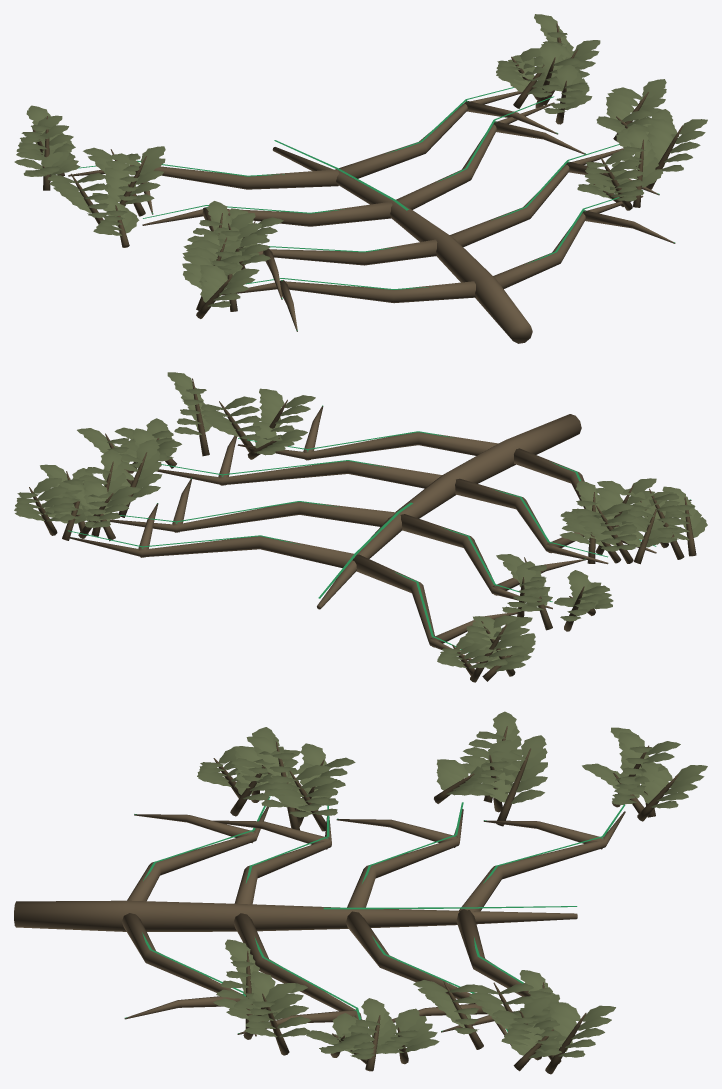
The model's file is green-steppe-colony.glb.
The picture shows the model from 3 angles, top to bottom: view 1: azimuth 30°, elevation 25°; view 2: azimuth 150°, elevation 25°; view 3: azimuth 270°, elevation 25°; orthographic projection. The views are drawn at different scales.
Visible parts, largest first — view 1: LAND04 green-steppe-colony; view 2: LAND04 green-steppe-colony; view 3: LAND04 green-steppe-colony.
Part boxes in pixels (bbox=[...]): LAND04 green-steppe-colony: bbox=[14, 14, 707, 343]; LAND04 green-steppe-colony: bbox=[14, 372, 707, 682]; LAND04 green-steppe-colony: bbox=[14, 711, 707, 1074].
Bounding box in the file's own units: 4.25 × 0.5511 × 3.96.
